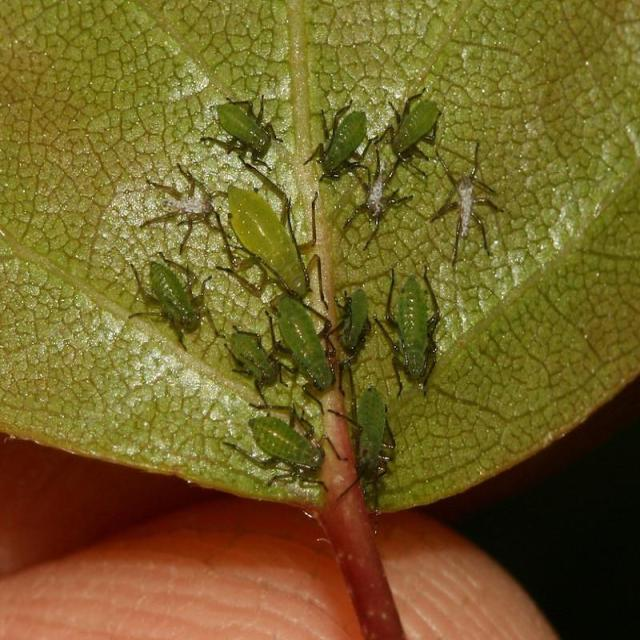Aphids: (205, 162, 331, 318), (377, 260, 460, 408), (232, 393, 334, 495), (264, 287, 352, 405), (129, 251, 224, 353), (195, 82, 290, 175), (333, 376, 400, 503), (308, 94, 382, 195), (379, 78, 441, 188), (220, 319, 296, 401)
